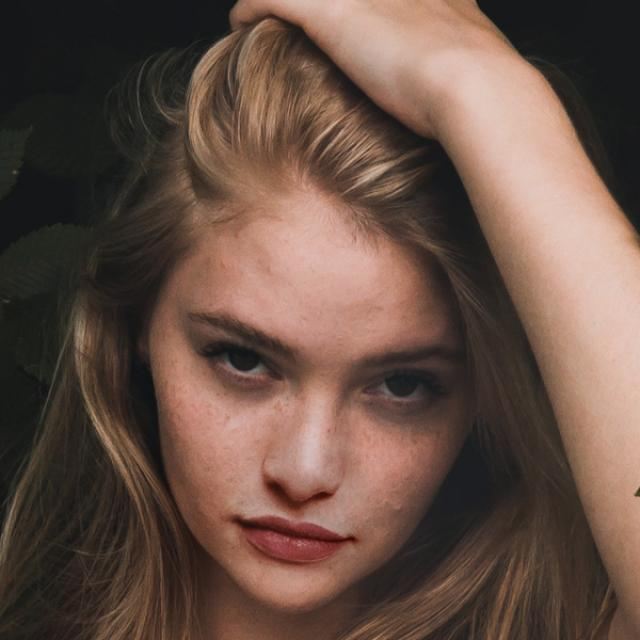face: (89, 31, 539, 608)
